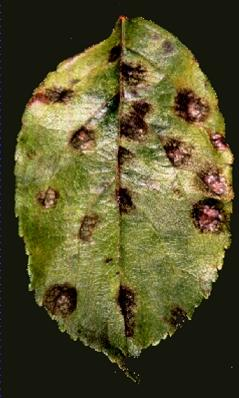Apple Scab Leaf: (1, 1, 239, 397)
